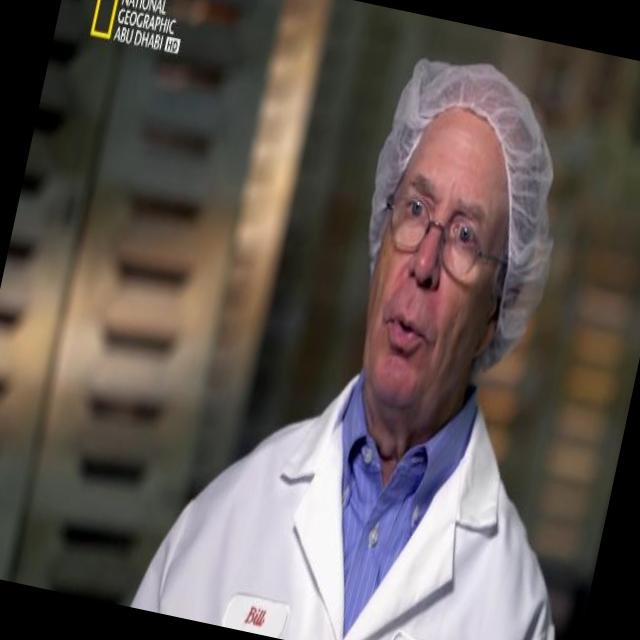hairnet: (373, 54, 567, 216)
